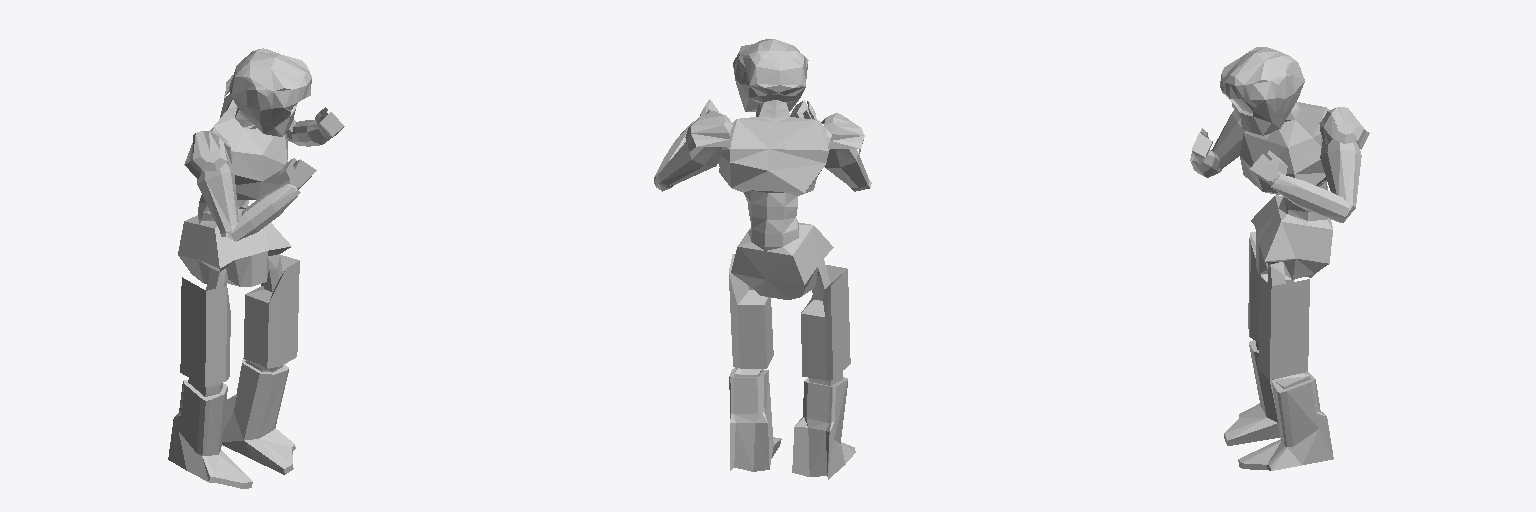
Rendered from Shputnik-Punch1.obj.
The picture shows the model from 3 angles: view 1: azimuth 30°, elevation 25°; view 2: azimuth 150°, elevation 25°; view 3: azimuth 270°, elevation 25°; orthographic projection.
Visible parts, largest first — view 1: Shputnik_Mesh; view 2: Shputnik_Mesh; view 3: Shputnik_Mesh.
Boxes of the visible parts, <box> form: Shputnik_Mesh: <box>168,48,344,488</box>; Shputnik_Mesh: <box>654,39,871,479</box>; Shputnik_Mesh: <box>1190,47,1369,470</box>.
Size of the model in its own units: 5.05 by 12.05 by 4.76.